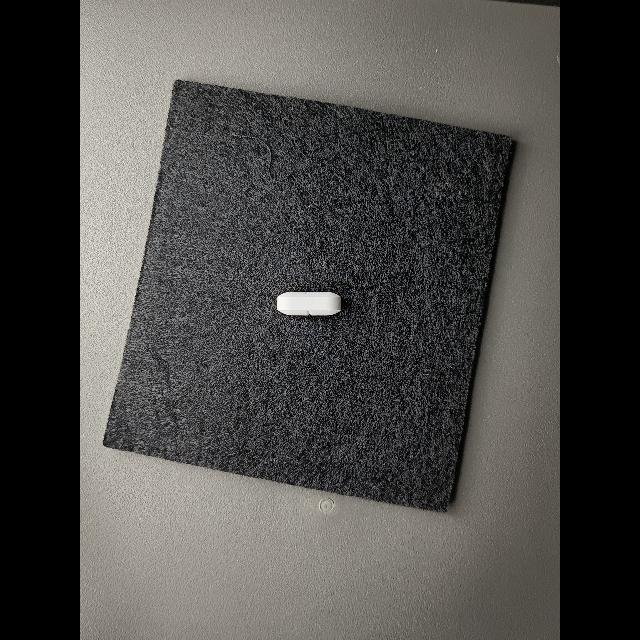Intact Pill: (277, 292, 341, 316)
